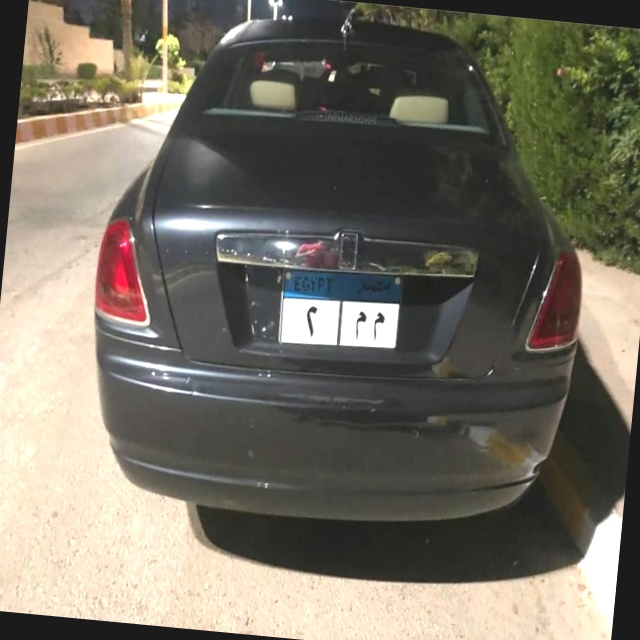License Plate: (274, 264, 407, 358)
